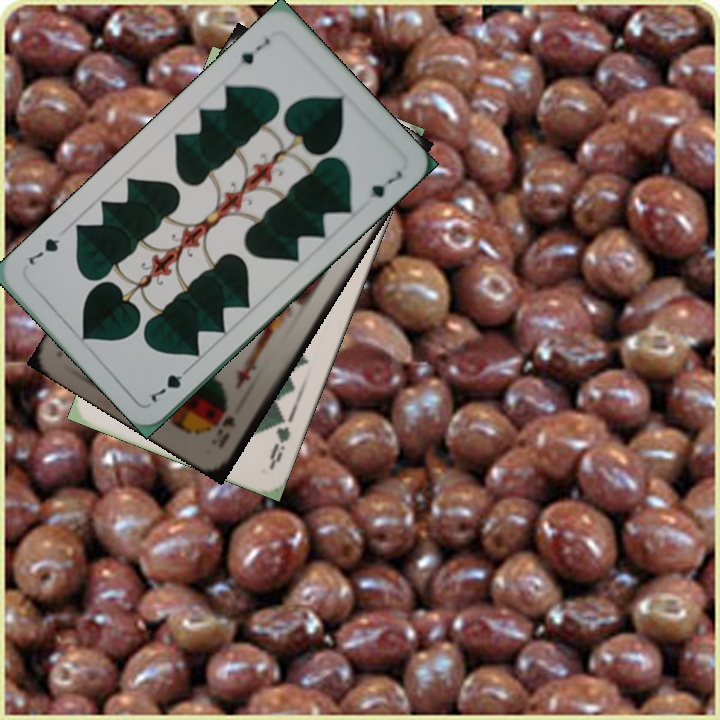G7: (144, 362, 195, 406), (236, 34, 273, 67)
G9: (265, 410, 293, 471)
SK: (212, 411, 239, 452)
